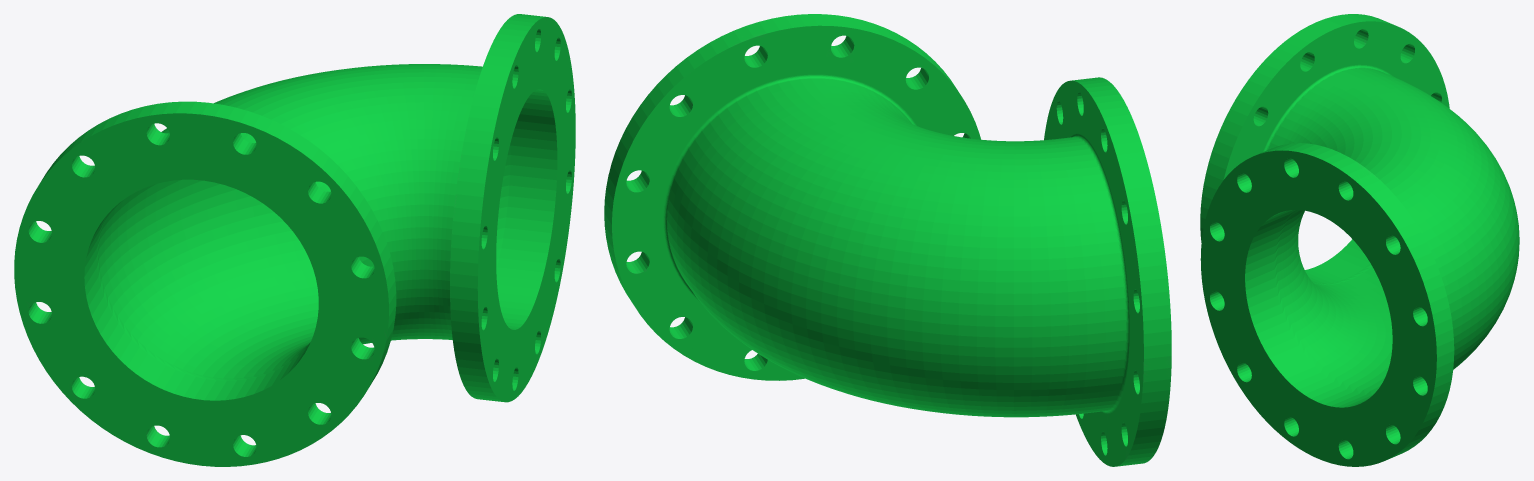
Rendered from curva10.glb.
The picture shows the model from 3 angles, left to right: view 1: azimuth 30°, elevation 25°; view 2: azimuth 150°, elevation 25°; view 3: azimuth 270°, elevation 25°; orthographic projection. The views are drawn at different scales.
Parts seen in each view (by area): view 1: node_id3; view 2: node_id3; view 3: node_id3.
Part boxes in pixels (x1=…): node_id3: x1=14, y1=14, x2=575, y2=466; node_id3: x1=604, y1=14, x2=1171, y2=466; node_id3: x1=1200, y1=14, x2=1519, y2=466.
Bounding box in the file's own units: 0.724 × 0.4312 × 0.4149.
1 material, 1 textured.
